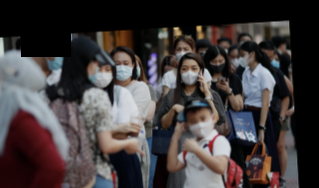with_mask: (45, 42, 66, 72), (188, 115, 213, 138), (180, 63, 202, 85), (93, 65, 114, 88), (114, 58, 133, 81), (174, 45, 194, 62), (209, 57, 227, 73), (239, 51, 253, 67), (229, 54, 241, 68), (271, 57, 281, 68)
